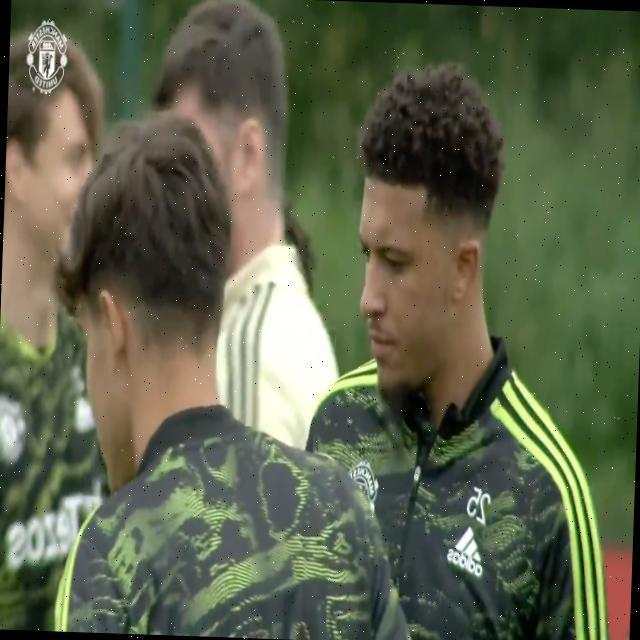Adidas: (445, 522, 483, 579)
